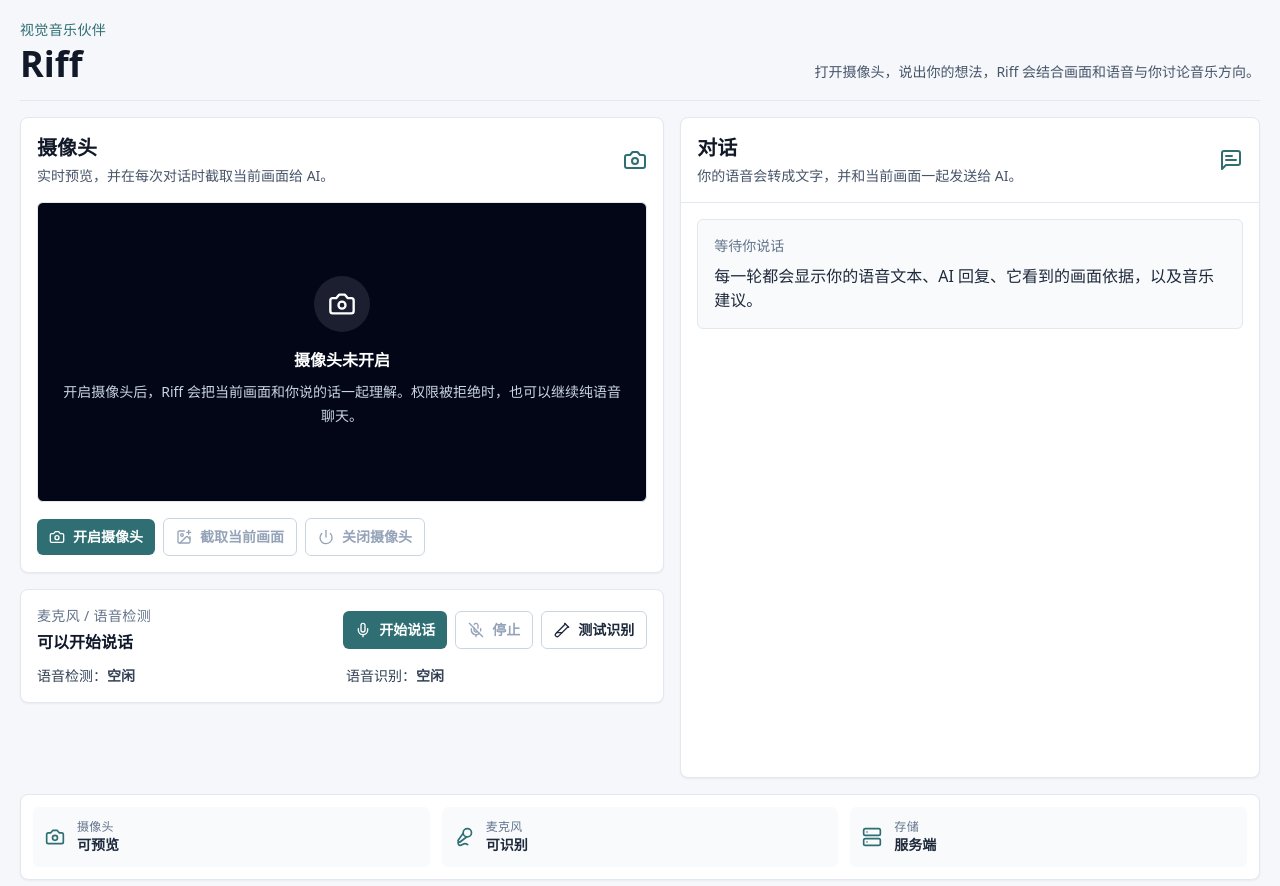
home chat flow › keeps consecutive turns visible and sends a history summary into the next chat request
What coordinates should you click on to do the following:
click the button "测试识别"
I would click on:
 (594, 630)
Its box is [541,611,647,649].
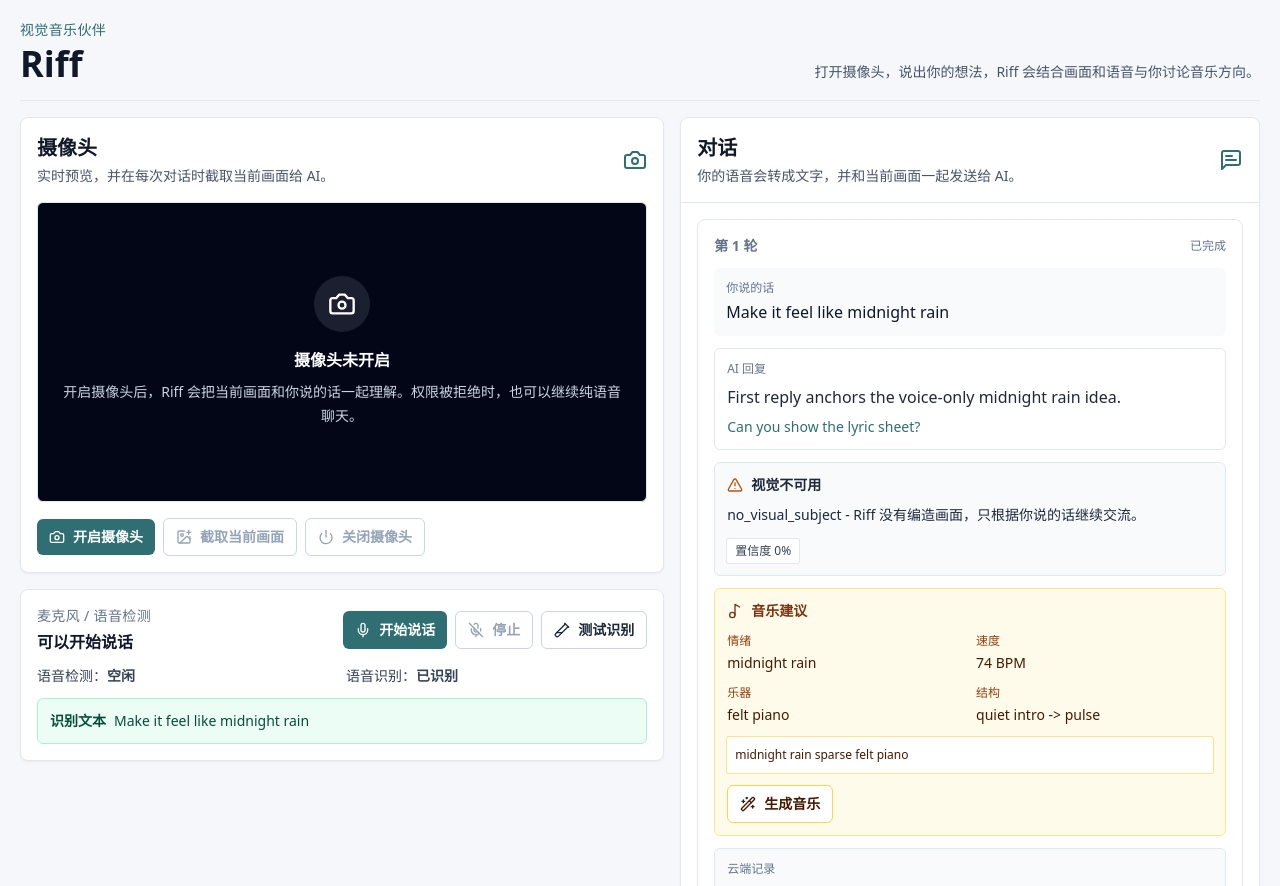
What coordinates should you click on to do the following:
click the button "测试识别"
I would click on:
 (594, 630)
Its box is [541,611,647,649].
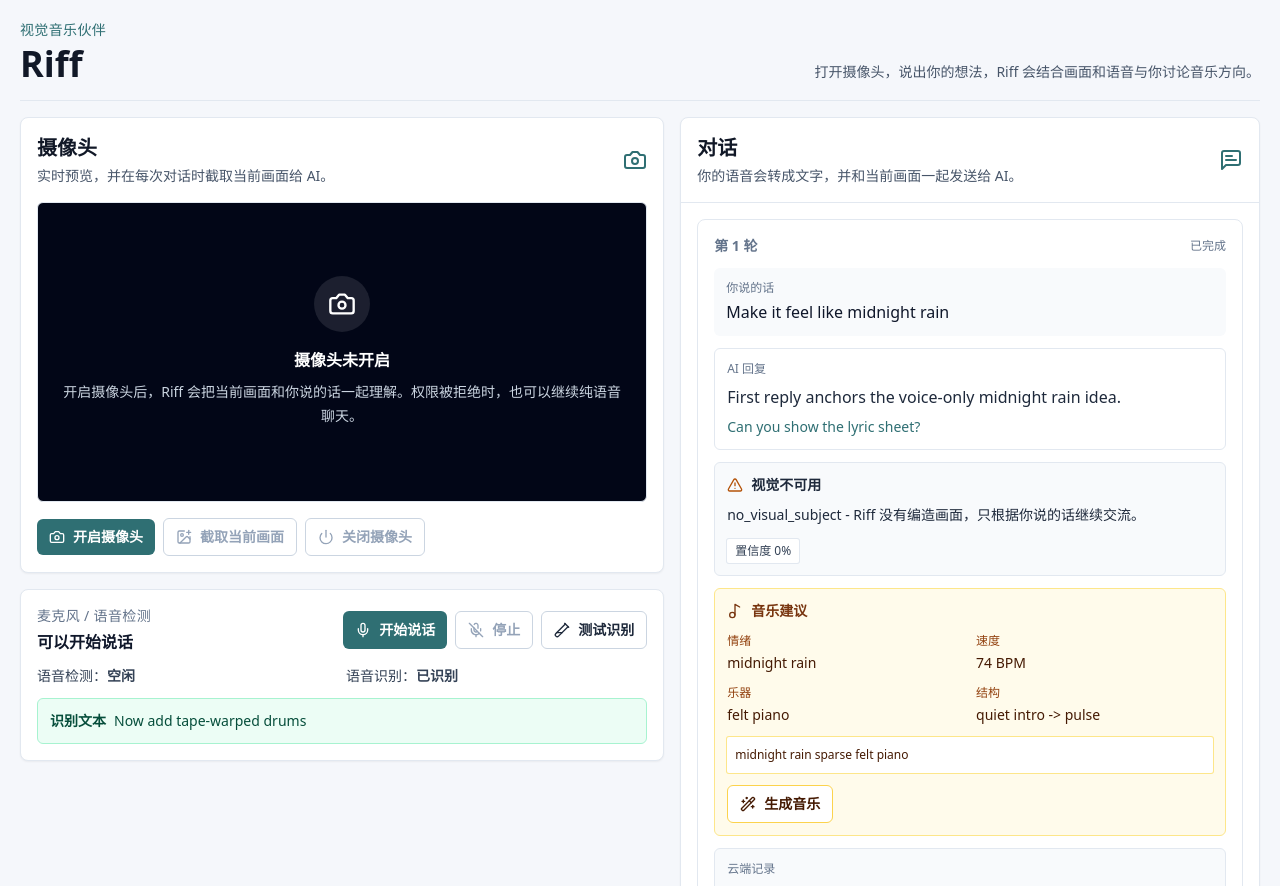
Now the text "Make it feel like midnight rain" is shown, box [726,301,949,323]
Now the text "First reply anchors the voice-only midnight rain idea." is shown, box [727,386,1121,408]
Now the text "Now add tape-warped drums" is shown, box [114,711,306,730]
